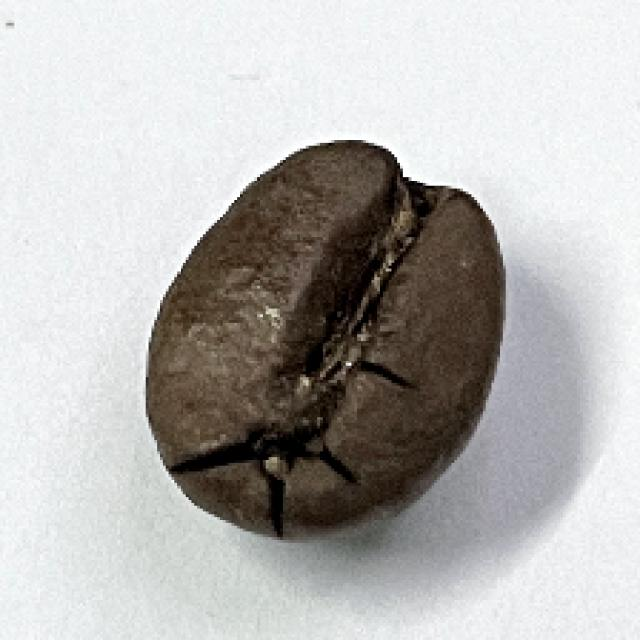bean: (139, 136, 512, 545)
